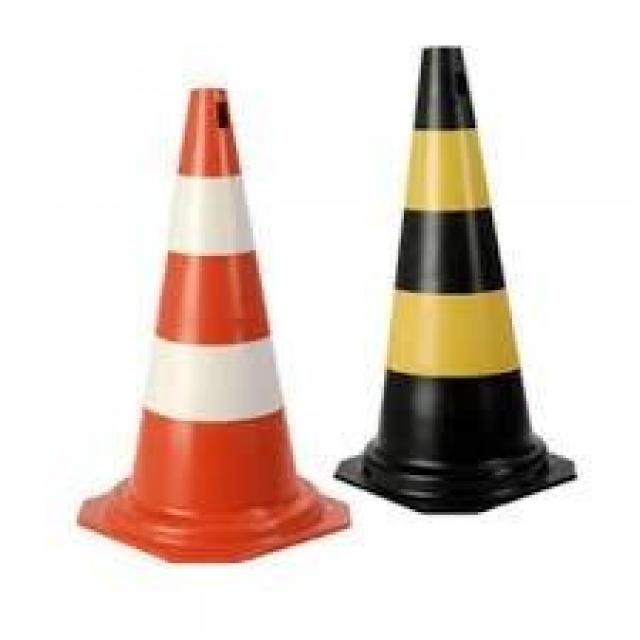cone: (78, 88, 378, 569), (334, 49, 577, 510)
